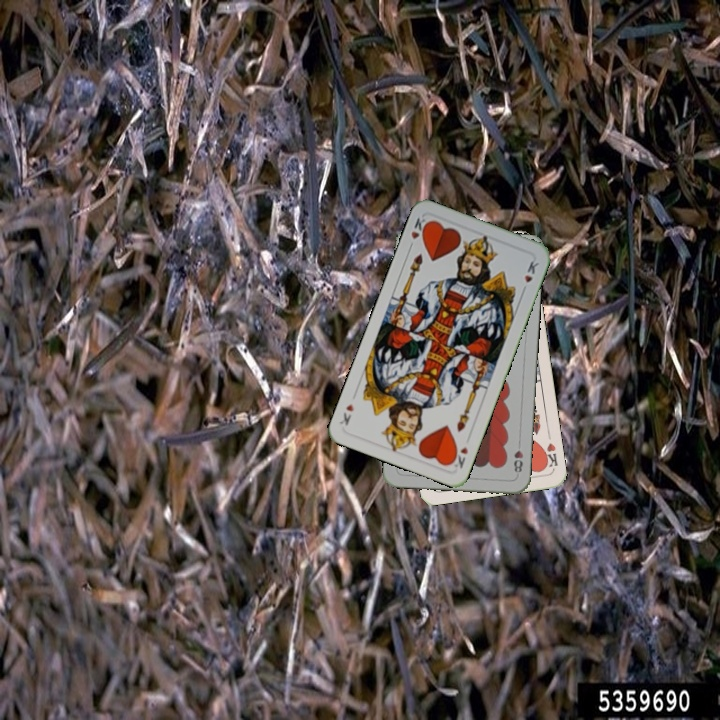H8: (510, 446, 526, 475)
HK: (407, 213, 432, 242), (539, 439, 560, 472), (447, 443, 470, 471)
